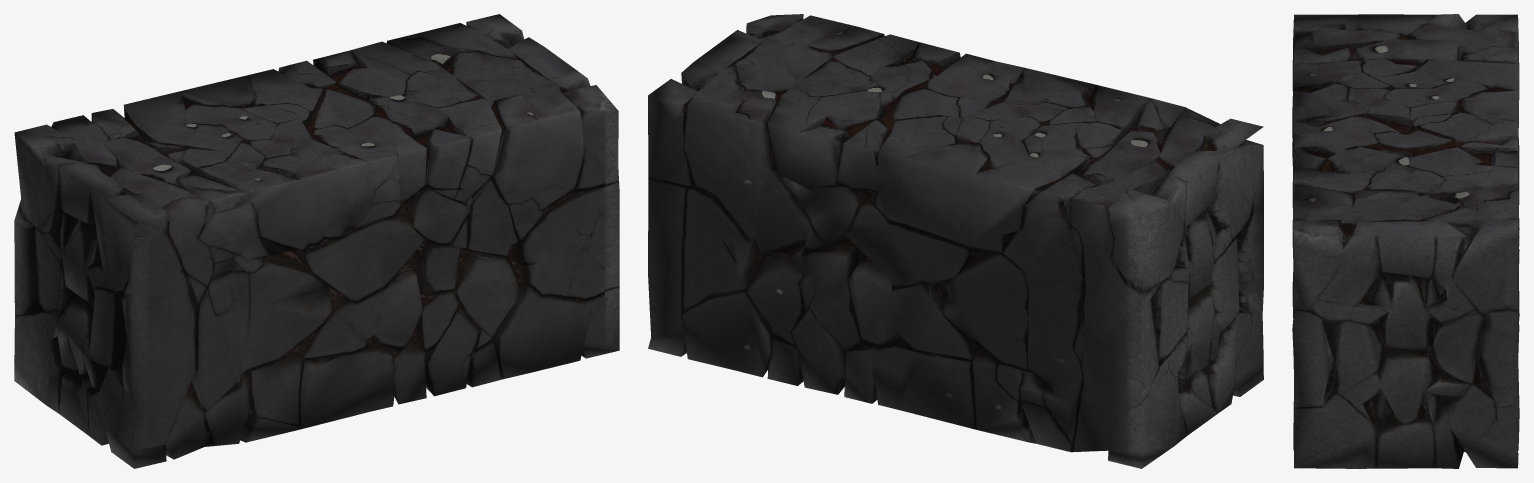
File: prop-path.glb
The picture shows the model from 3 angles, left to right: view 1: azimuth 30°, elevation 25°; view 2: azimuth 150°, elevation 25°; view 3: azimuth 270°, elevation 25°; orthographic projection. The views are drawn at different scales.
Bounding box in the file's own units: 2 × 0.9905 × 0.8653.
1 material, 1 textured.
